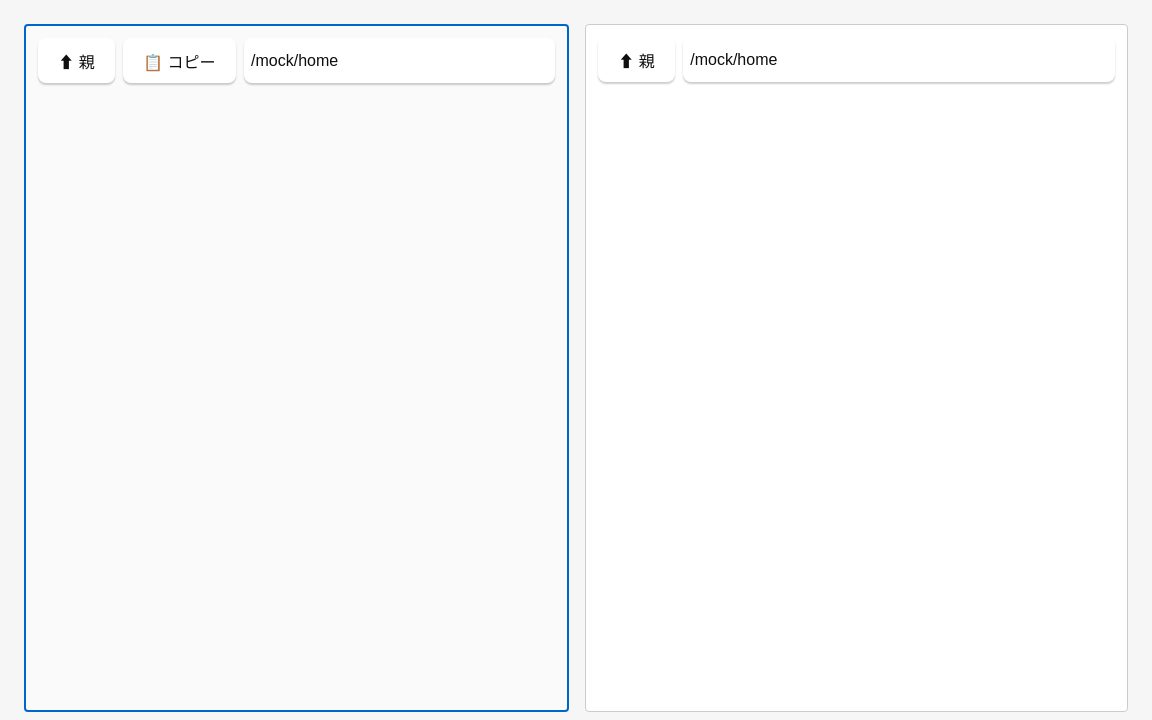
App (Dual Pane) › 操作系: 左右ペインそれぞれのパス入力フィールドの変更および Enter 実行が動作すること
This screenshot has width=1152, height=720.
Replace the text in the 1st field showing "/mock/home" with "/left/custom": (399, 61) [244,38,555,83]
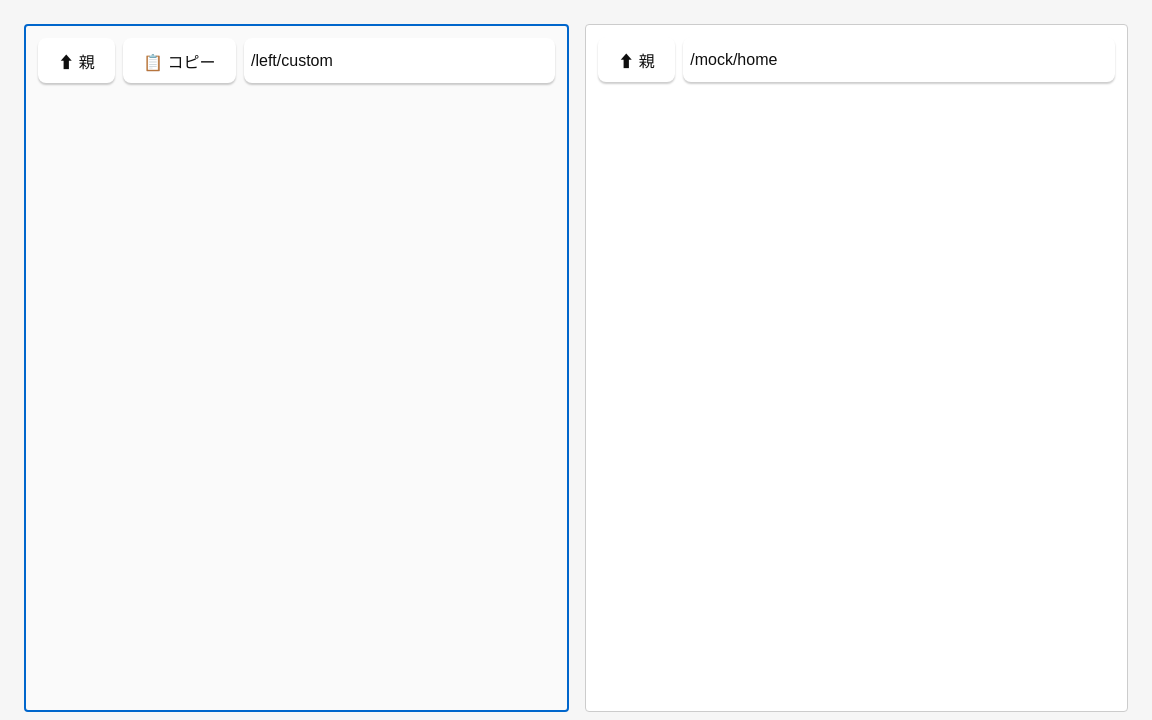
Press Enter in the 1st field showing "/mock/home", box [244,38,555,83]
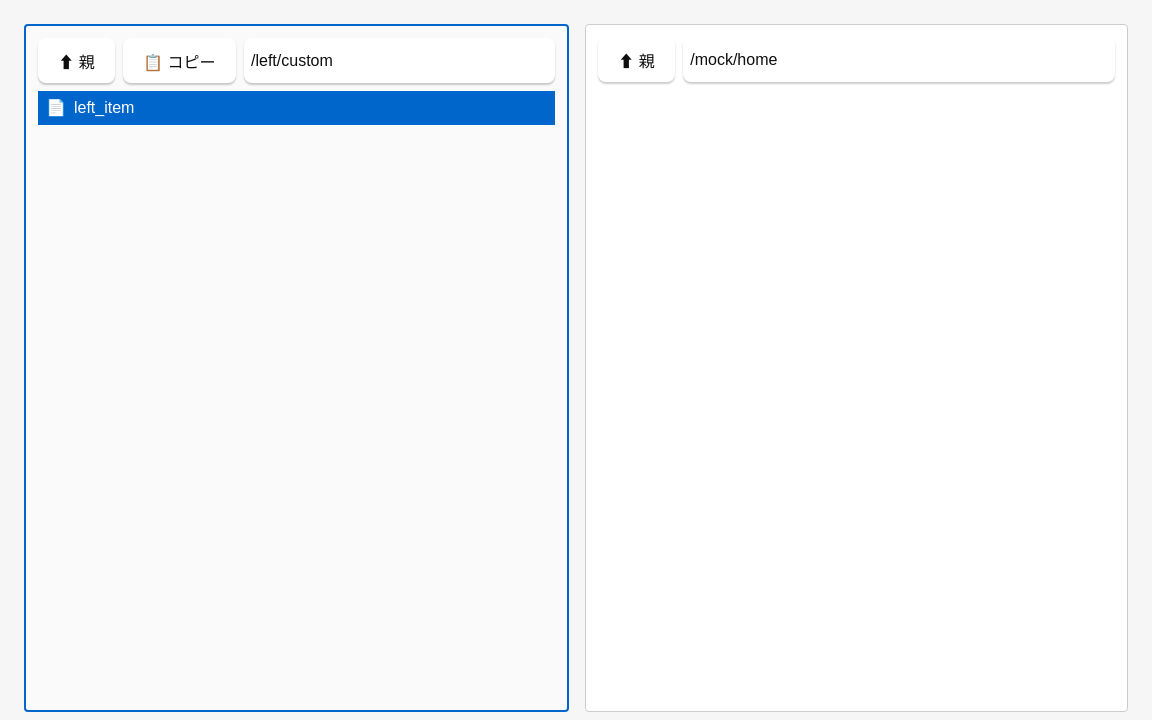
Expected: the text "left_item" is shown, [74,96,134,120]
Replace the text in the 2nd field showing "/mock/home" with "/right/custom": (899, 60) [683,37,1115,82]
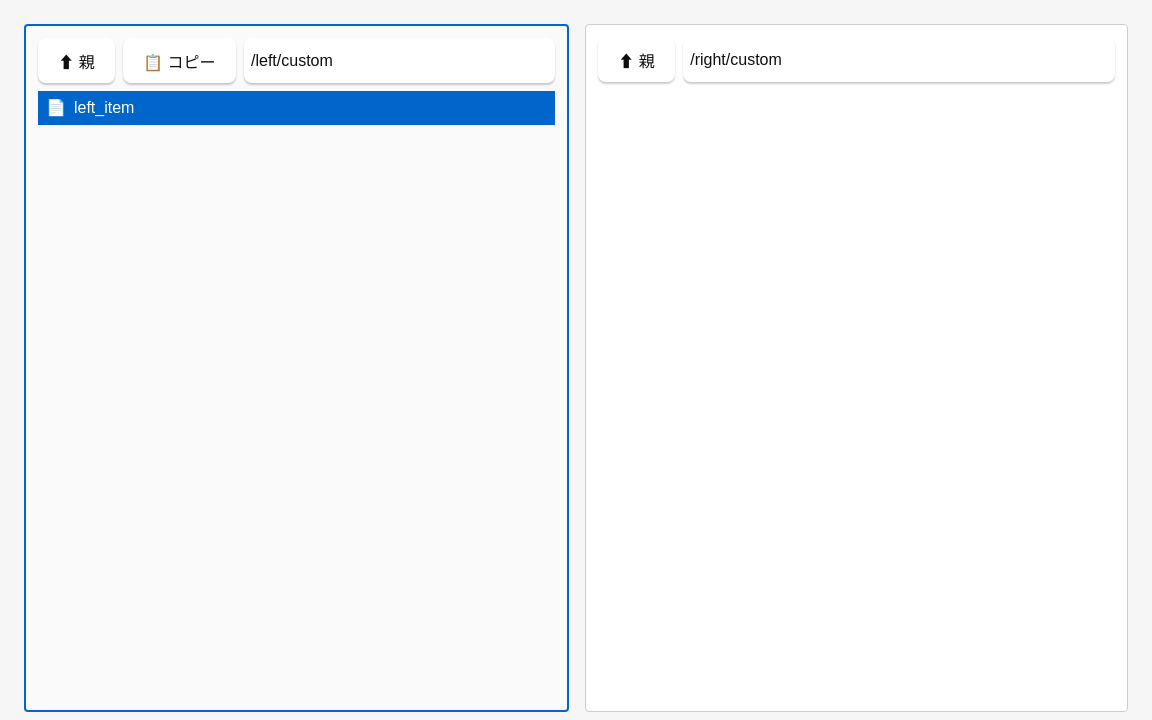
Press Enter in the 2nd field showing "/mock/home", box [683,37,1115,82]
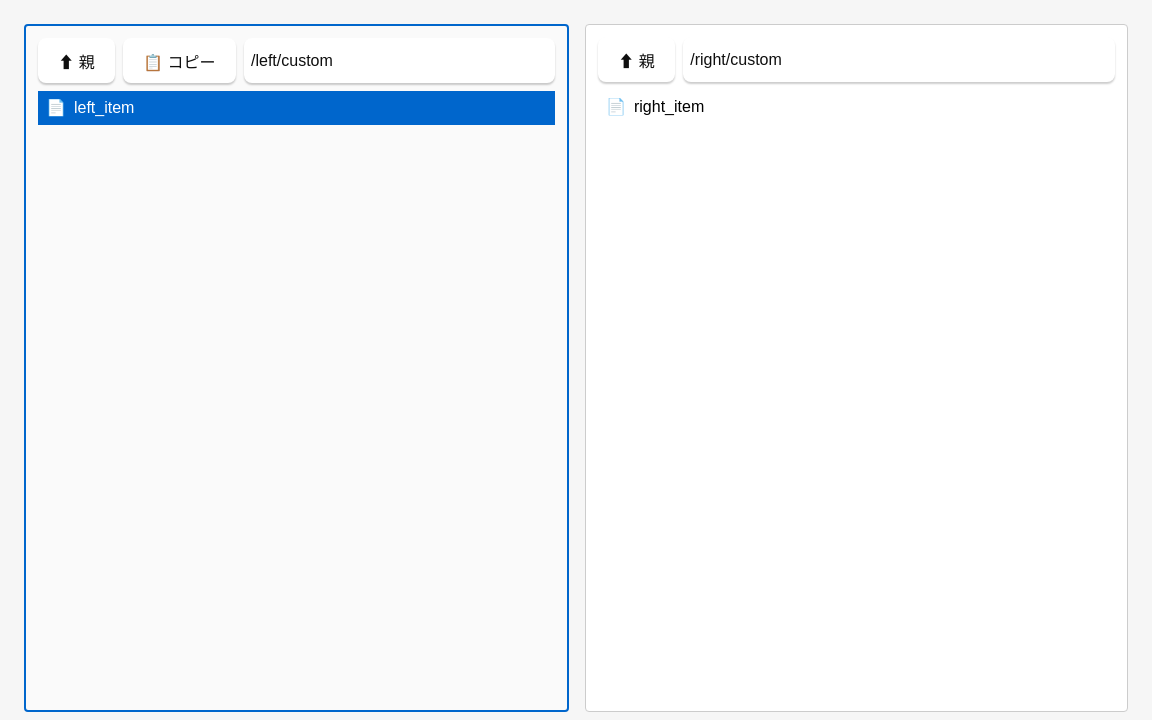
Expected: the text "right_item" is shown, [634,95,704,119]
